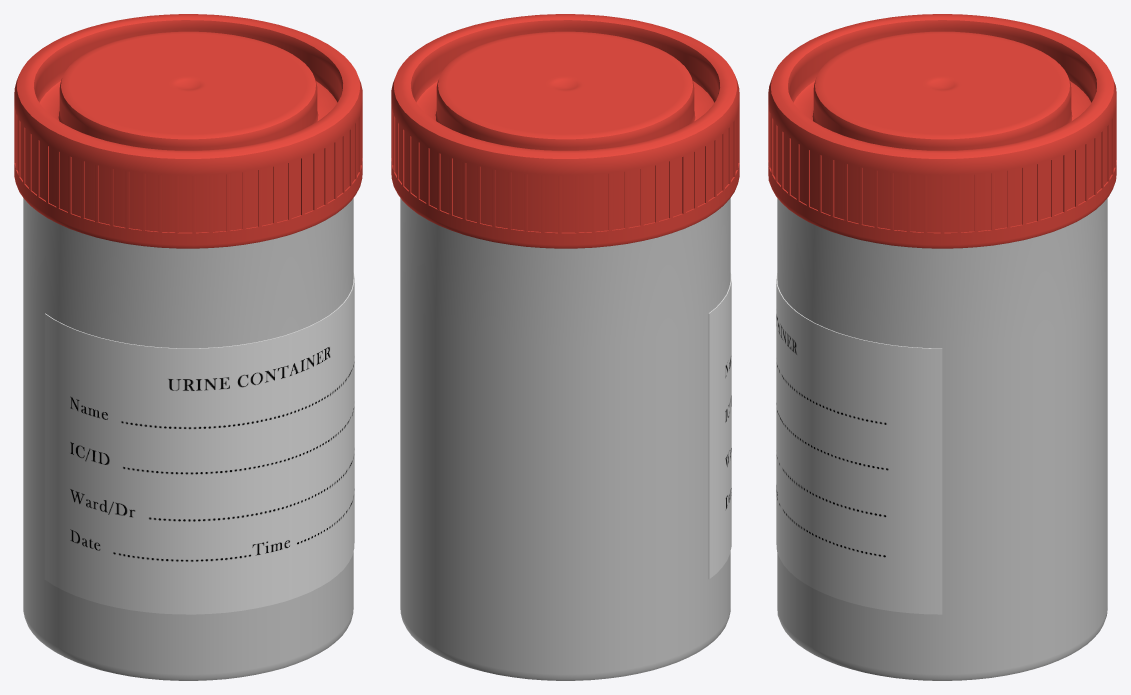
File: urineSample.glb
3 renders of one model, left to right at view 1: azimuth 30°, elevation 25°; view 2: azimuth 150°, elevation 25°; view 3: azimuth 270°, elevation 25°, orthographic.
Parts seen in each view (by area): view 1: Medical_Urine_Sample_Label, Medical_Urine_Sample_Lid, Medical_Urine_Sample_Body; view 2: Medical_Urine_Sample_Body, Medical_Urine_Sample_Lid, Medical_Urine_Sample_Label; view 3: Medical_Urine_Sample_Body, Medical_Urine_Sample_Lid, Medical_Urine_Sample_Label.
Boxes of the visible parts, x1=… form: Medical_Urine_Sample_Label: x1=44, y1=273, x2=354, y2=614; Medical_Urine_Sample_Lid: x1=14, y1=14, x2=362, y2=248; Medical_Urine_Sample_Body: x1=23, y1=198, x2=353, y2=680; Medical_Urine_Sample_Body: x1=400, y1=198, x2=730, y2=680; Medical_Urine_Sample_Lid: x1=391, y1=14, x2=739, y2=248; Medical_Urine_Sample_Label: x1=708, y1=273, x2=731, y2=579; Medical_Urine_Sample_Body: x1=777, y1=198, x2=1107, y2=680; Medical_Urine_Sample_Lid: x1=768, y1=14, x2=1116, y2=248; Medical_Urine_Sample_Label: x1=776, y1=273, x2=942, y2=614.
Bounding box in the file's own units: 0.0398 × 0.0665 × 0.0398.
Materials: 3 (1 with a texture image).
